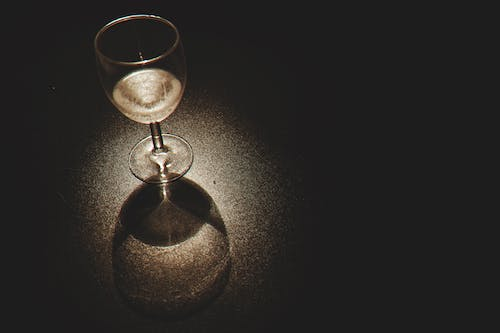alcohol: (93, 13, 194, 184)
